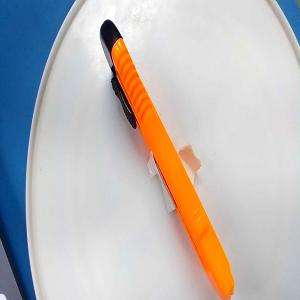estilete: (98, 18, 236, 300)
